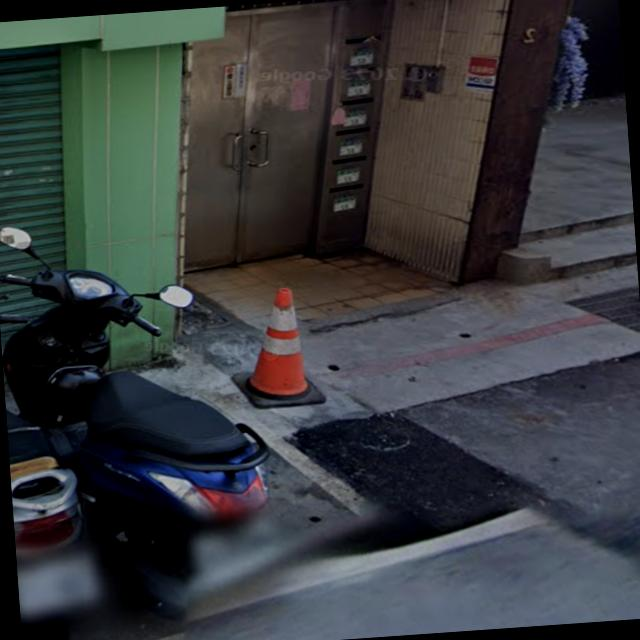cone: (239, 284, 330, 419)
